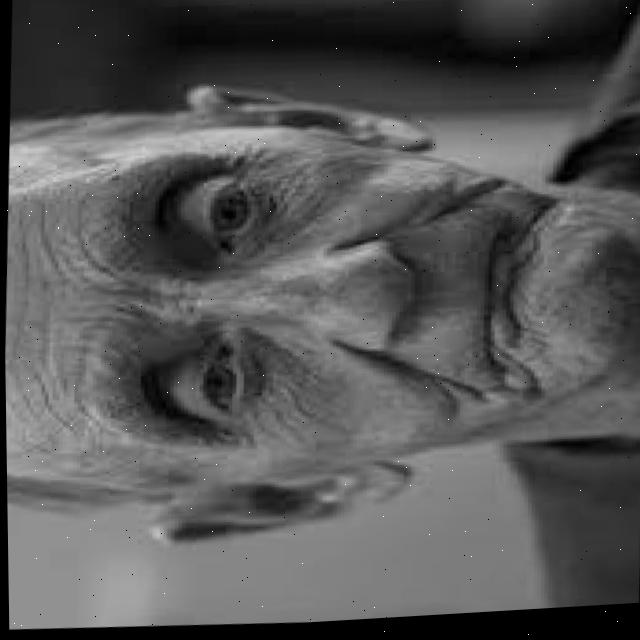surprised: (14, 89, 629, 501)
